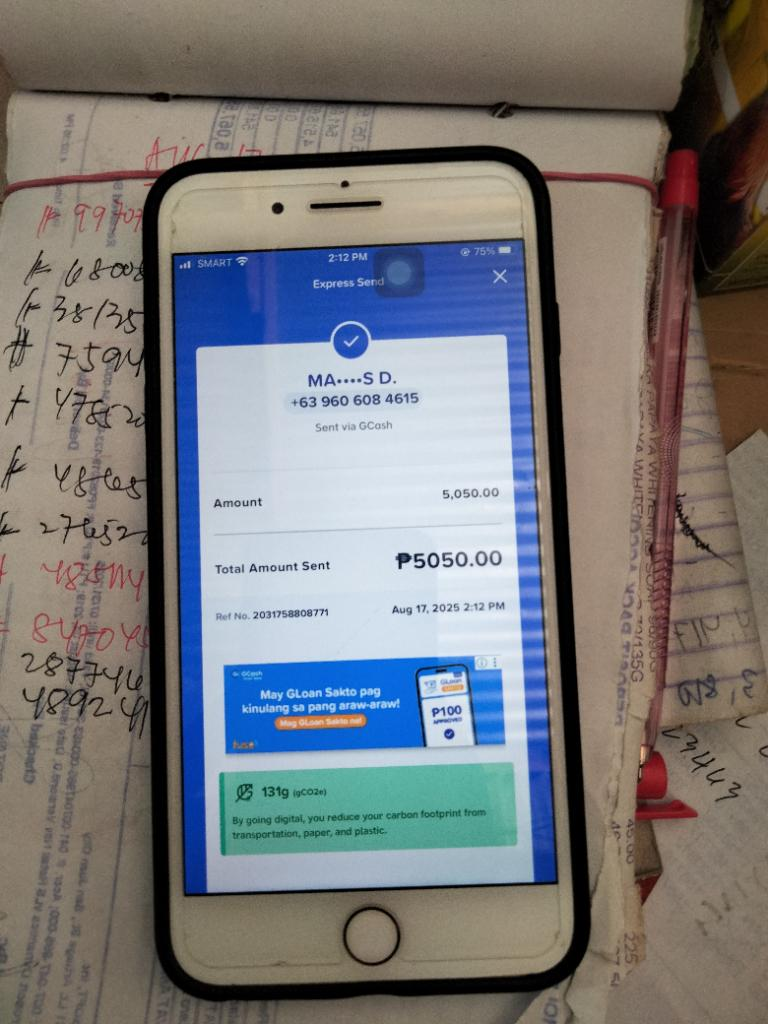Receipt: (173, 241, 558, 893)
